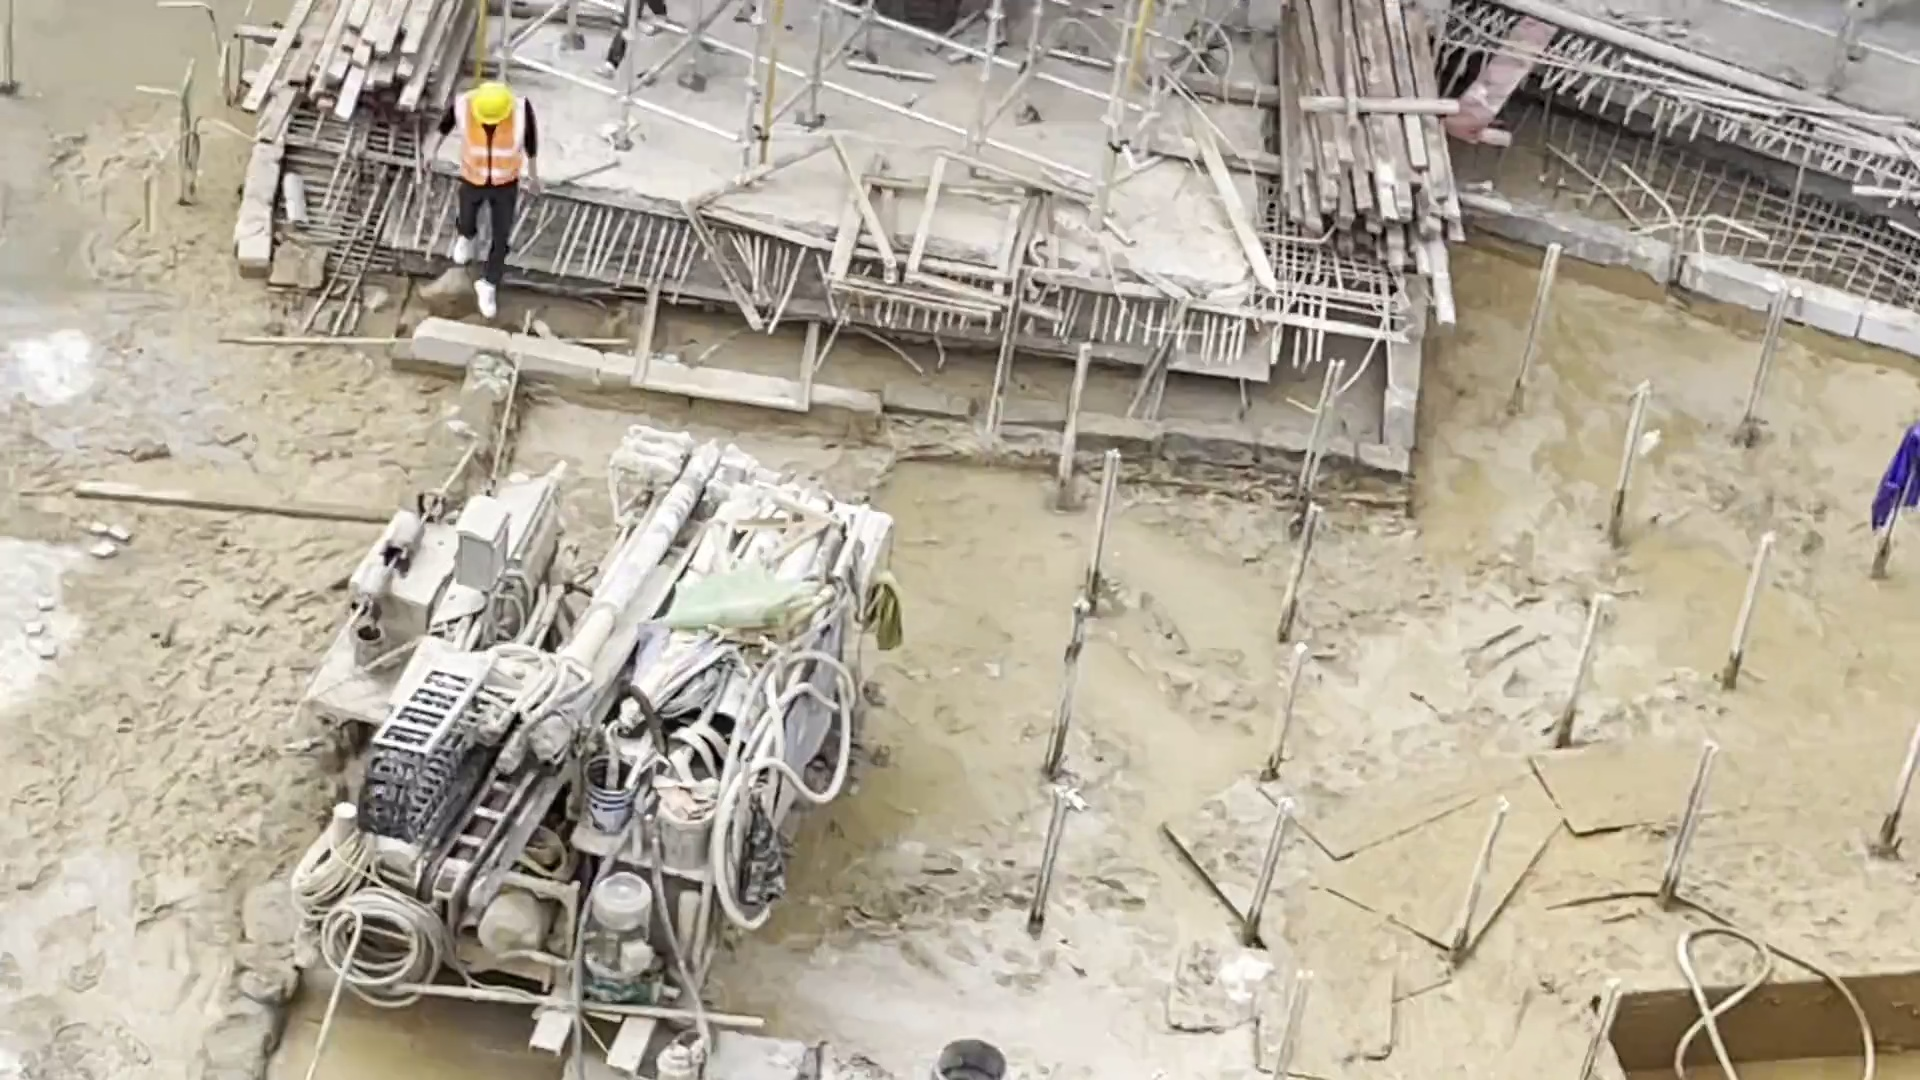helmet: (470, 80, 516, 127)
person: (411, 79, 544, 330)
vest: (449, 99, 524, 188)
